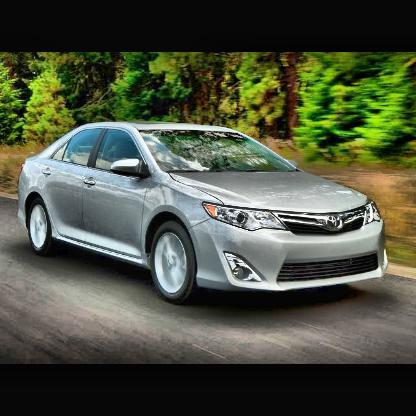Toyota Camry Sedan 2012: (17, 120, 390, 305)
